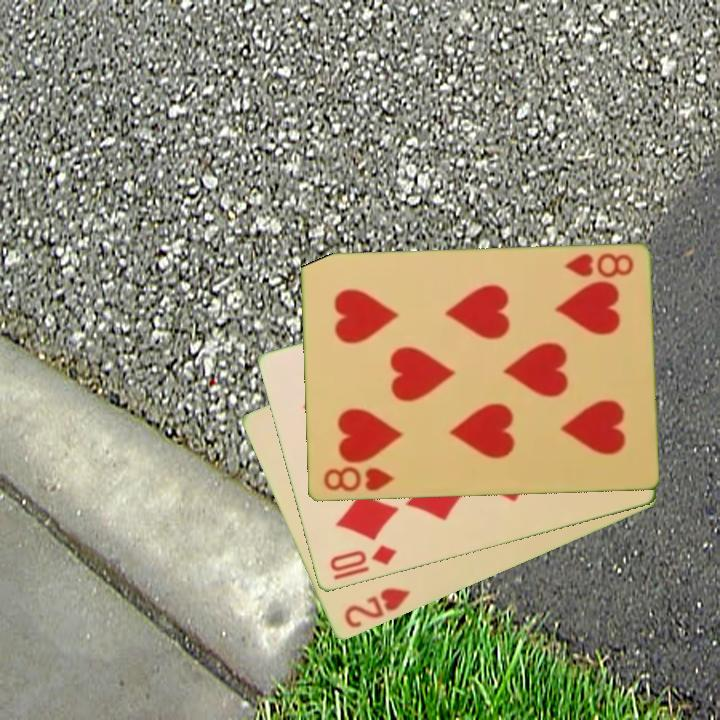10d: (326, 541, 400, 584)
2h: (340, 584, 413, 632)
8h: (319, 463, 397, 495), (560, 250, 636, 281)
